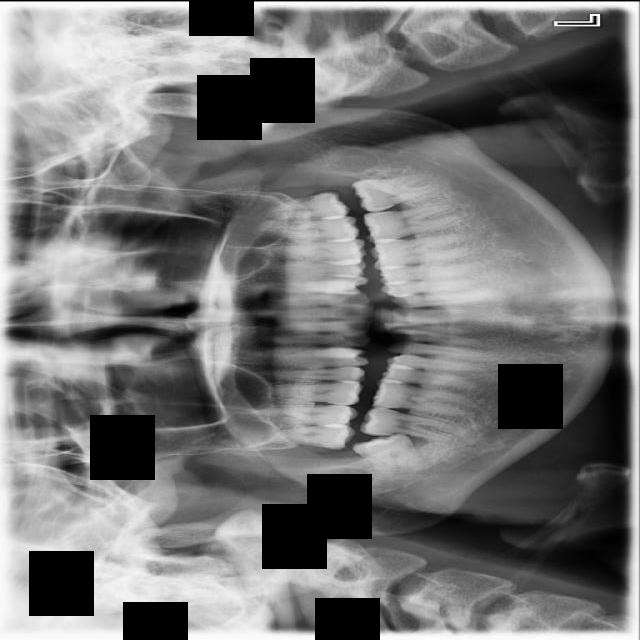3M ESPE Implant: (267, 423, 356, 449)
73: (581, 41, 595, 48)
BioHorizons Implant: (258, 215, 359, 242)
BioLife Implant: (261, 190, 351, 222)
Biomet 3i Implant: (349, 168, 447, 214)
Blue Sky Bio Implant: (362, 201, 459, 245)
Caries: (258, 402, 359, 428)
Implant: (360, 405, 458, 443)
Keystone Dental Implant: (350, 430, 425, 477)
